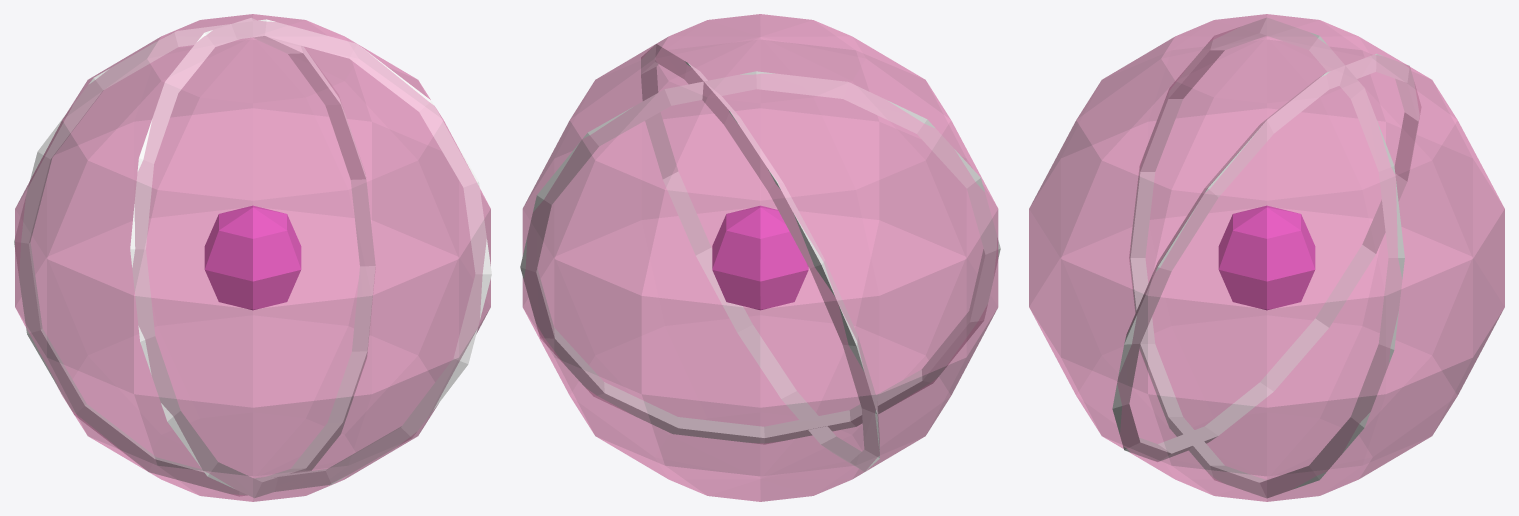
The model's file is bubble.obj.
3 renders of one model, left to right at view 1: azimuth 30°, elevation 25°; view 2: azimuth 150°, elevation 25°; view 3: azimuth 270°, elevation 25°, orthographic.
Bounding box in the file's own units: 1.36 × 1.4 × 1.36.
